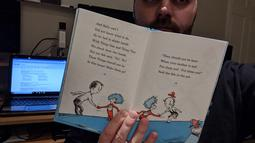text block: (87, 18, 138, 75), (156, 49, 209, 82)
